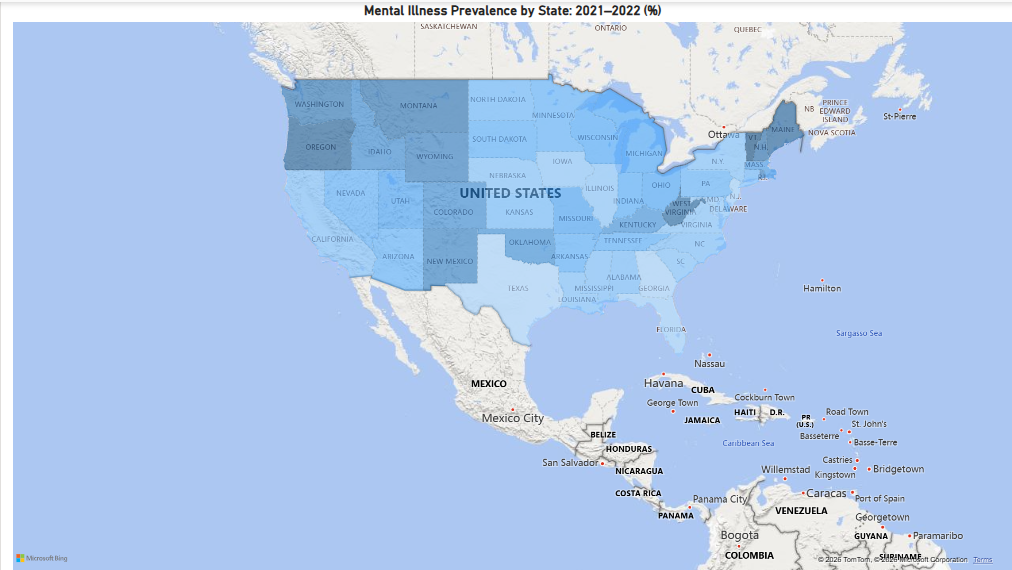

The page's visual inventory and layout, read from the dashboard file:
{"tool":"powerbi","page":{"name":"State Map","canvas":[1280,720],"ordinal":3},"visuals":[{"type":"filledMap","title":"Mental Illness Prevalence by State: 2021–2022 (%)","fields":{"Category":["state_data.state"]},"box":[9.4,0,1269.9,720],"z":0}]}

Visuals, with their boxes in screenshot pixels (x1, y1, x2, y2), scaled from the page's 1280x720 canvas onto the 1012x570 screenshot:
"Mental Illness Prevalence by State: 2021–2022 (%)" filledMap: [7,0,1011,569]
